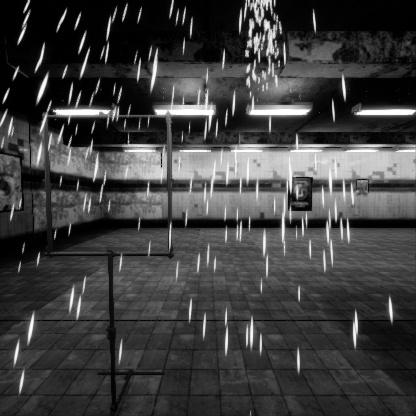gate: (42, 157, 185, 302)
